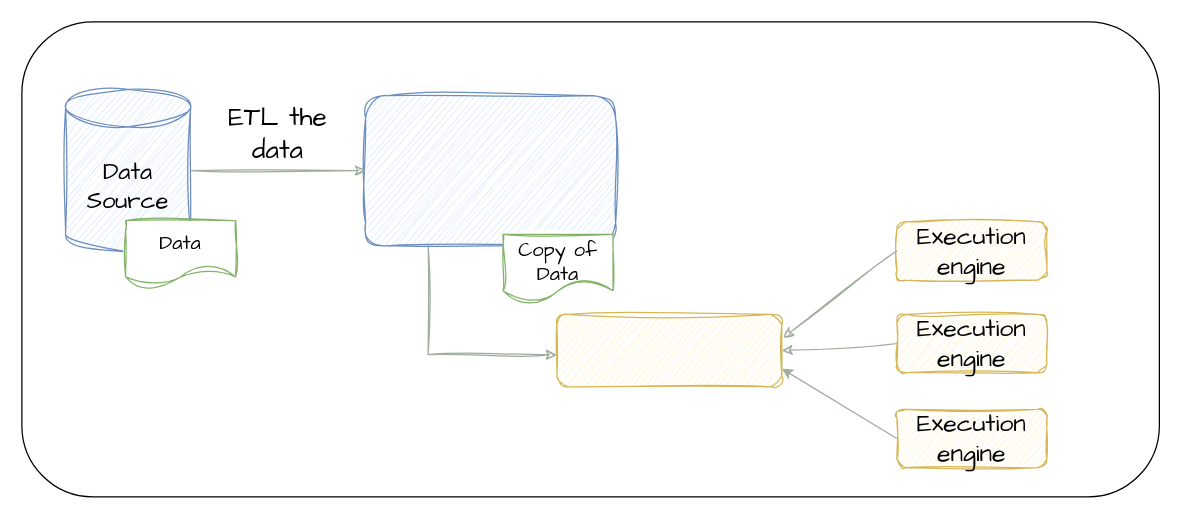
Image size: 1181x519. Some labels were removed from this diagram. Here are the shapes that lost their labels. From the top down, the box of each, then its label:
(364, 94, 616, 246): Data Lake (Object storage)
(556, 313, 782, 387): Open Table Format
